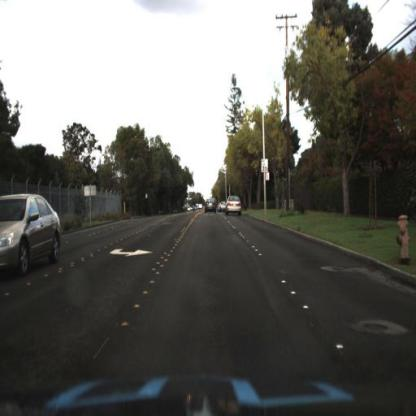car: (1, 194, 64, 278), (224, 196, 244, 219), (203, 196, 219, 219)
